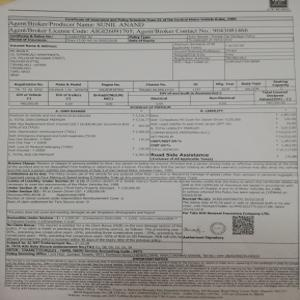table: (11, 16, 297, 79), (9, 106, 297, 161)
text: (6, 262, 299, 298), (7, 81, 296, 106)
